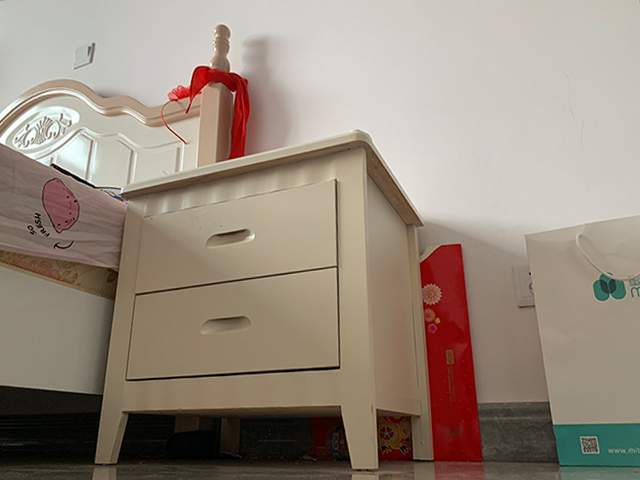bed: (1, 22, 251, 433)
cabinet: (93, 128, 435, 470)
